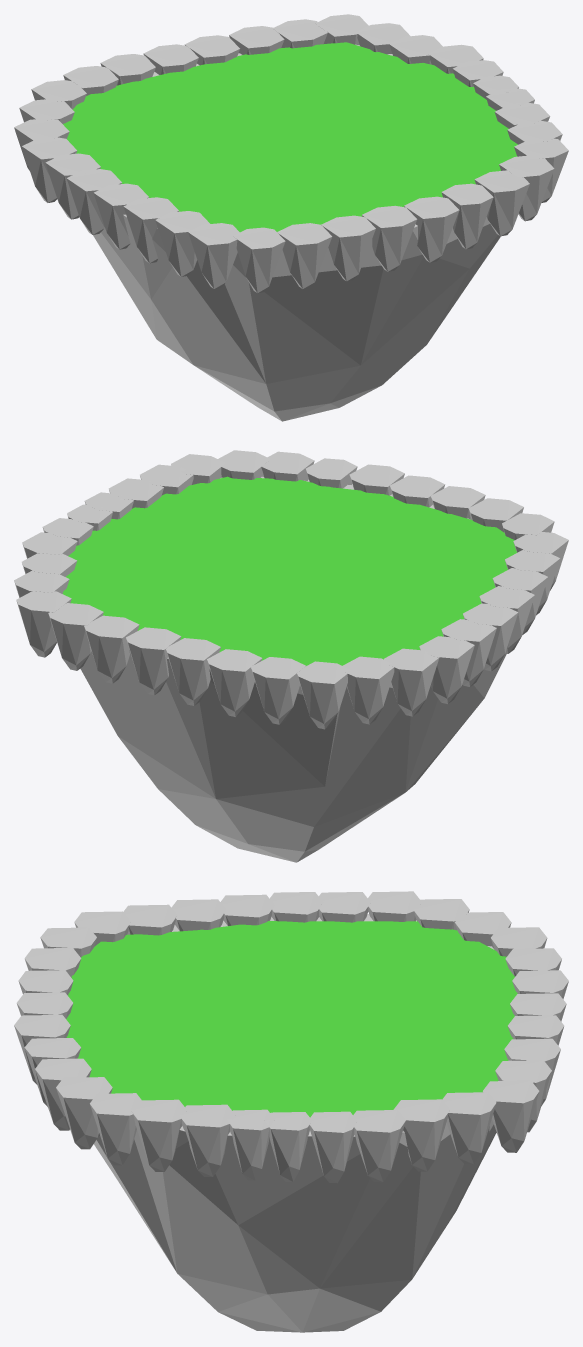
Rendered from floating_island.fbx.
3 views of the same model, one above another, from view 1: azimuth 30°, elevation 25°; view 2: azimuth 150°, elevation 25°; view 3: azimuth 270°, elevation 25° (orthographic). The views are drawn at different scales.
Visible parts, largest first — view 1: Cube, Cube.007, Cube.026, Cube.015, Cube.013, Cube.012, Cube.014, Cube.011, Cube.009, Cube.016, Cube.010, Cube.018 (+24 smaller); view 2: Cube, Cube.007, Cube.040, Cube.030, Cube.031, Cube.024, Cube.035, Cube.023, Cube.033, Cube.034, Cube.036, Cube.021 (+24 smaller); view 3: Cube, Cube.007, Cube.032, Cube.038, Cube.004, Cube.005, Cube.037, Cube.039, Cube.041, Cube.002, Cube.008, Cube.003 (+24 smaller).
Boxes of the visible parts, bbox=[...] form: Cube: bbox=[63, 42, 517, 232]; Cube.007: bbox=[93, 44, 500, 421]; Cube.026: bbox=[277, 223, 332, 288]; Cube.015: bbox=[188, 223, 239, 288]; Cube.013: bbox=[321, 215, 375, 281]; Cube.012: bbox=[362, 205, 417, 271]; Cube.014: bbox=[233, 227, 285, 293]; Cube.011: bbox=[404, 196, 459, 262]; Cube.009: bbox=[474, 170, 529, 236]; Cube.016: bbox=[155, 211, 209, 276]; Cube.010: bbox=[441, 183, 493, 249]; Cube.018: bbox=[93, 183, 148, 249]; Cube: bbox=[63, 476, 516, 665]; Cube.007: bbox=[80, 476, 506, 862]; Cube.040: bbox=[297, 661, 351, 729]; Cube.030: bbox=[251, 657, 305, 724]; Cube.031: bbox=[207, 649, 262, 716]; Cube.024: bbox=[342, 656, 394, 724]; Cube.035: bbox=[84, 615, 139, 683]; Cube.023: bbox=[384, 648, 439, 716]; Cube.033: bbox=[166, 638, 220, 705]; Cube.034: bbox=[126, 627, 181, 695]; Cube.036: bbox=[48, 603, 103, 670]; Cube.021: bbox=[419, 636, 474, 703]; Cube: bbox=[66, 921, 517, 1117]; Cube.007: bbox=[94, 914, 496, 1332]; Cube.032: bbox=[349, 1110, 405, 1182]; Cube.038: bbox=[442, 1092, 496, 1164]; Cube.004: bbox=[179, 1104, 235, 1176]; Cube.005: bbox=[130, 1099, 187, 1171]; Cube.037: bbox=[482, 1080, 539, 1152]; Cube.039: bbox=[393, 1099, 449, 1171]; Cube.041: bbox=[90, 1093, 144, 1165]; Cube.002: bbox=[309, 1111, 357, 1183]; Cube.008: bbox=[56, 1077, 112, 1149]; Cube.003: bbox=[226, 1109, 274, 1180].
Bounding box in the file's own units: 2462 × 1445 × 2392.
